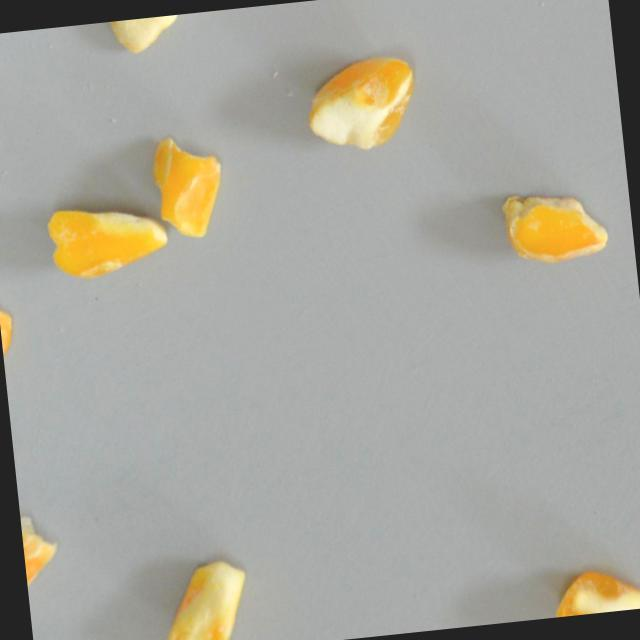pelicula: (300, 50, 419, 157), (42, 196, 169, 284), (145, 128, 228, 244), (497, 184, 611, 267), (156, 556, 249, 640), (18, 508, 63, 612), (99, 13, 188, 57), (0, 282, 21, 402)
